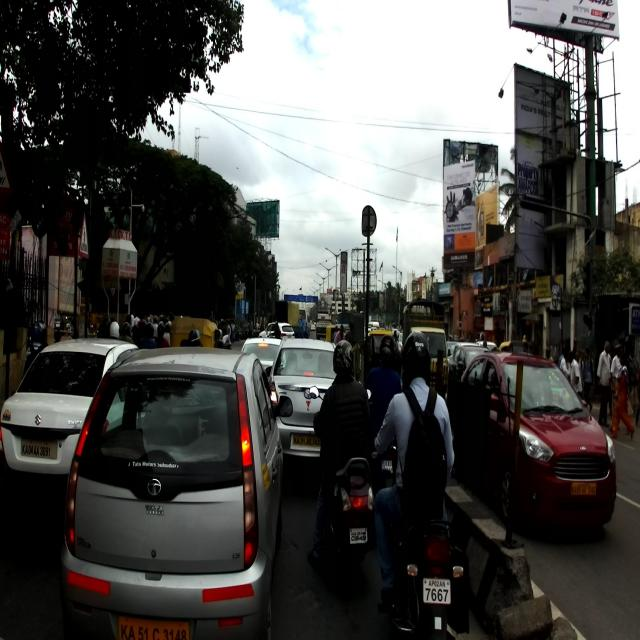car: (59, 344, 294, 640), (458, 341, 616, 540), (0, 337, 137, 518), (268, 337, 337, 474)
motorcycle: (370, 426, 398, 501)
scooter: (309, 385, 374, 581)
